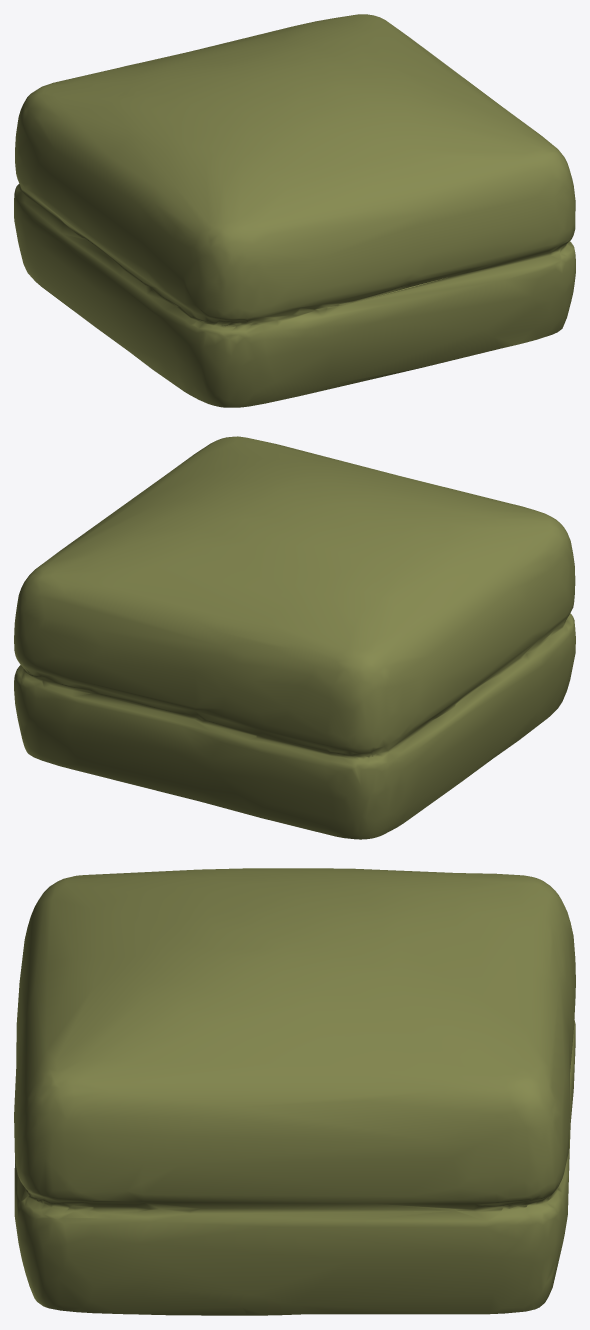
Rendered from show_living_pouf.glb.
The picture shows the model from 3 angles, top to bottom: view 1: azimuth 30°, elevation 25°; view 2: azimuth 150°, elevation 25°; view 3: azimuth 270°, elevation 25°; orthographic projection. The views are drawn at different scales.
Bounding box in the file's own units: 0.82 × 0.44 × 0.82.
